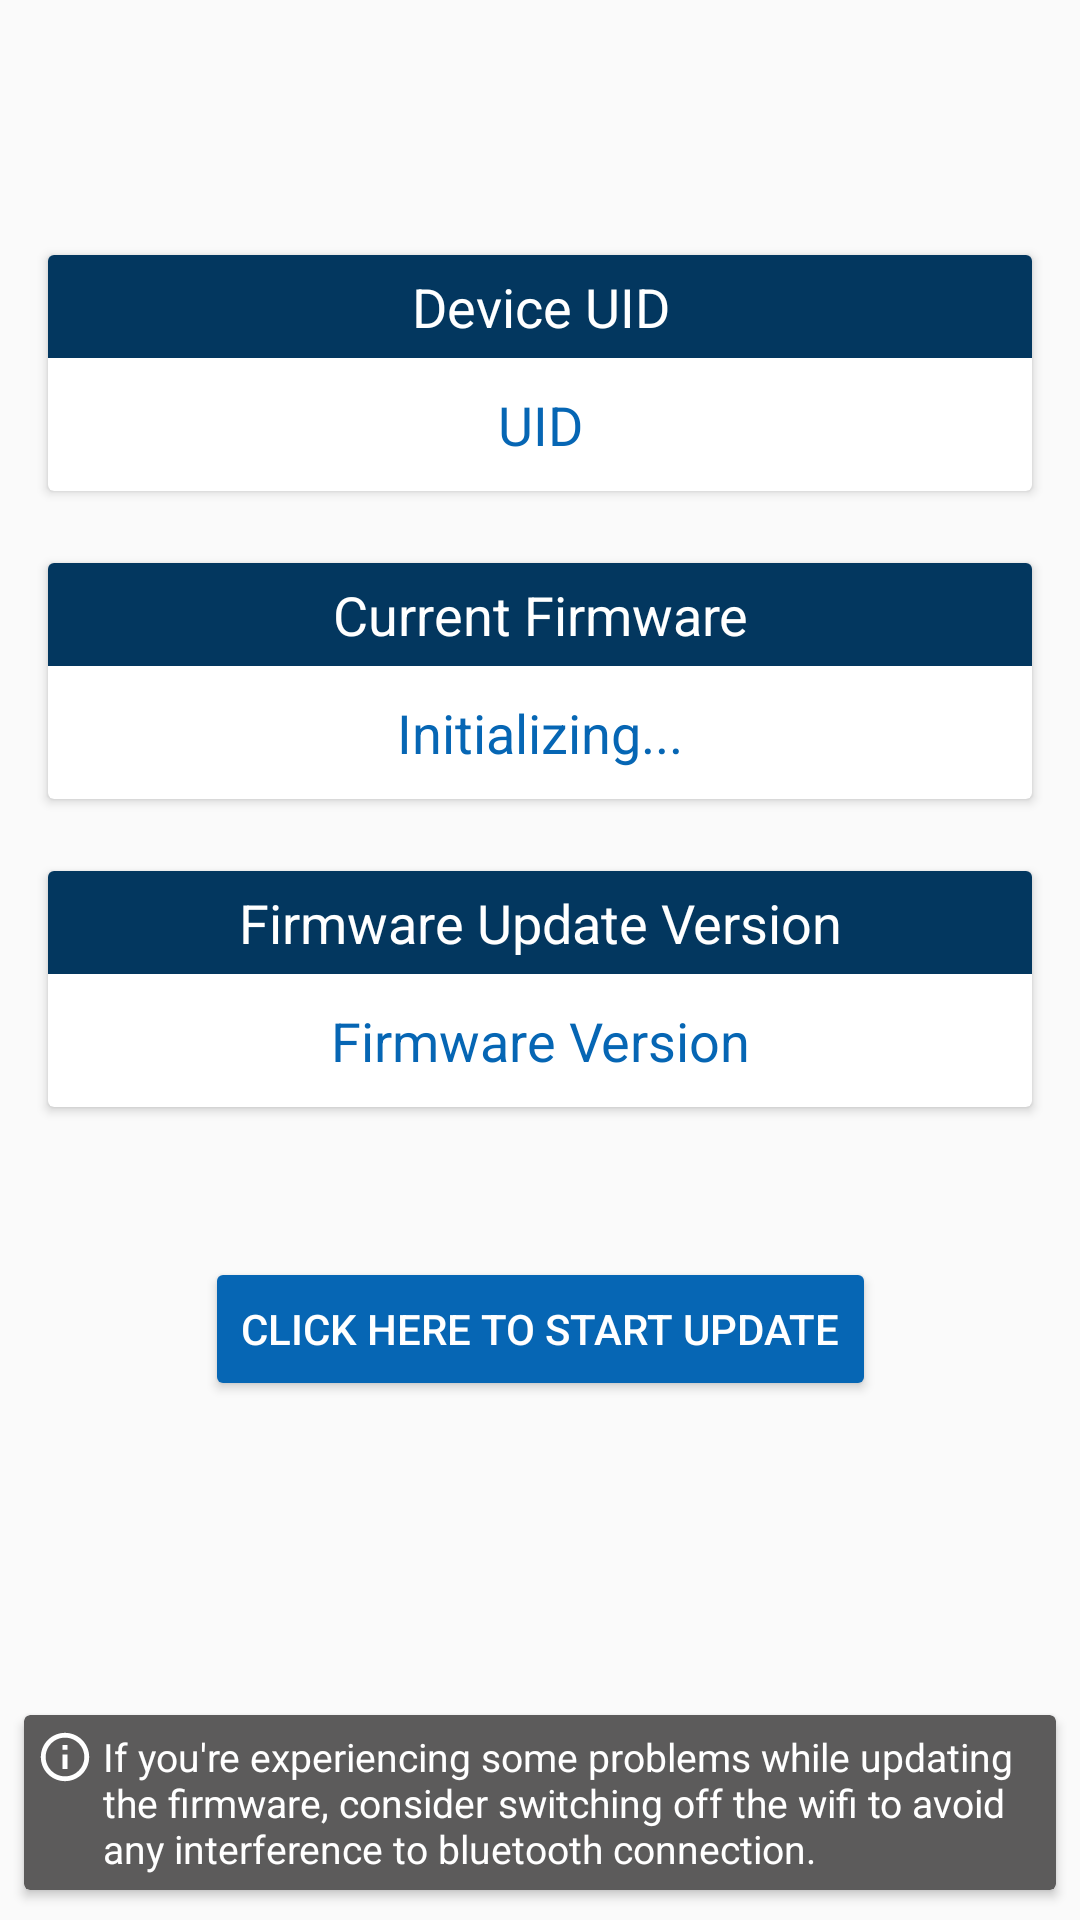

Screen size 1080*1920. Icon name, then its box in pixels as bbox=[x1, y1, x2, y2]:
info: bbox=[40, 1732, 90, 1782]
